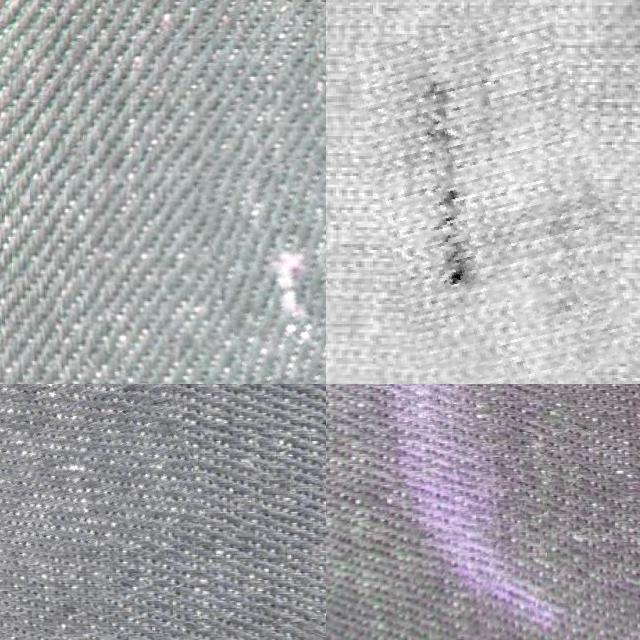Thread_other: (363, 12, 618, 384), (0, 384, 186, 562), (212, 146, 326, 384)
